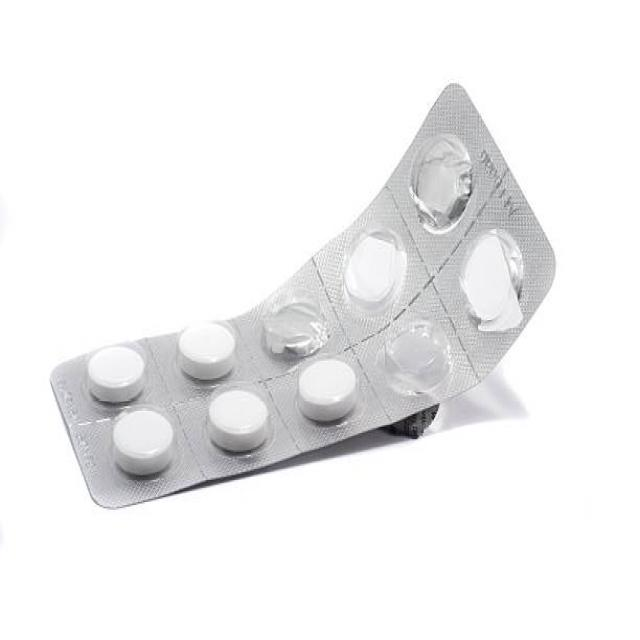Empty: (405, 134, 476, 232), (462, 232, 525, 334), (337, 227, 405, 321), (382, 318, 456, 402), (256, 287, 332, 355)
Pill: (71, 344, 160, 409), (291, 355, 367, 428), (107, 408, 178, 483), (206, 384, 277, 454), (174, 319, 245, 385)
